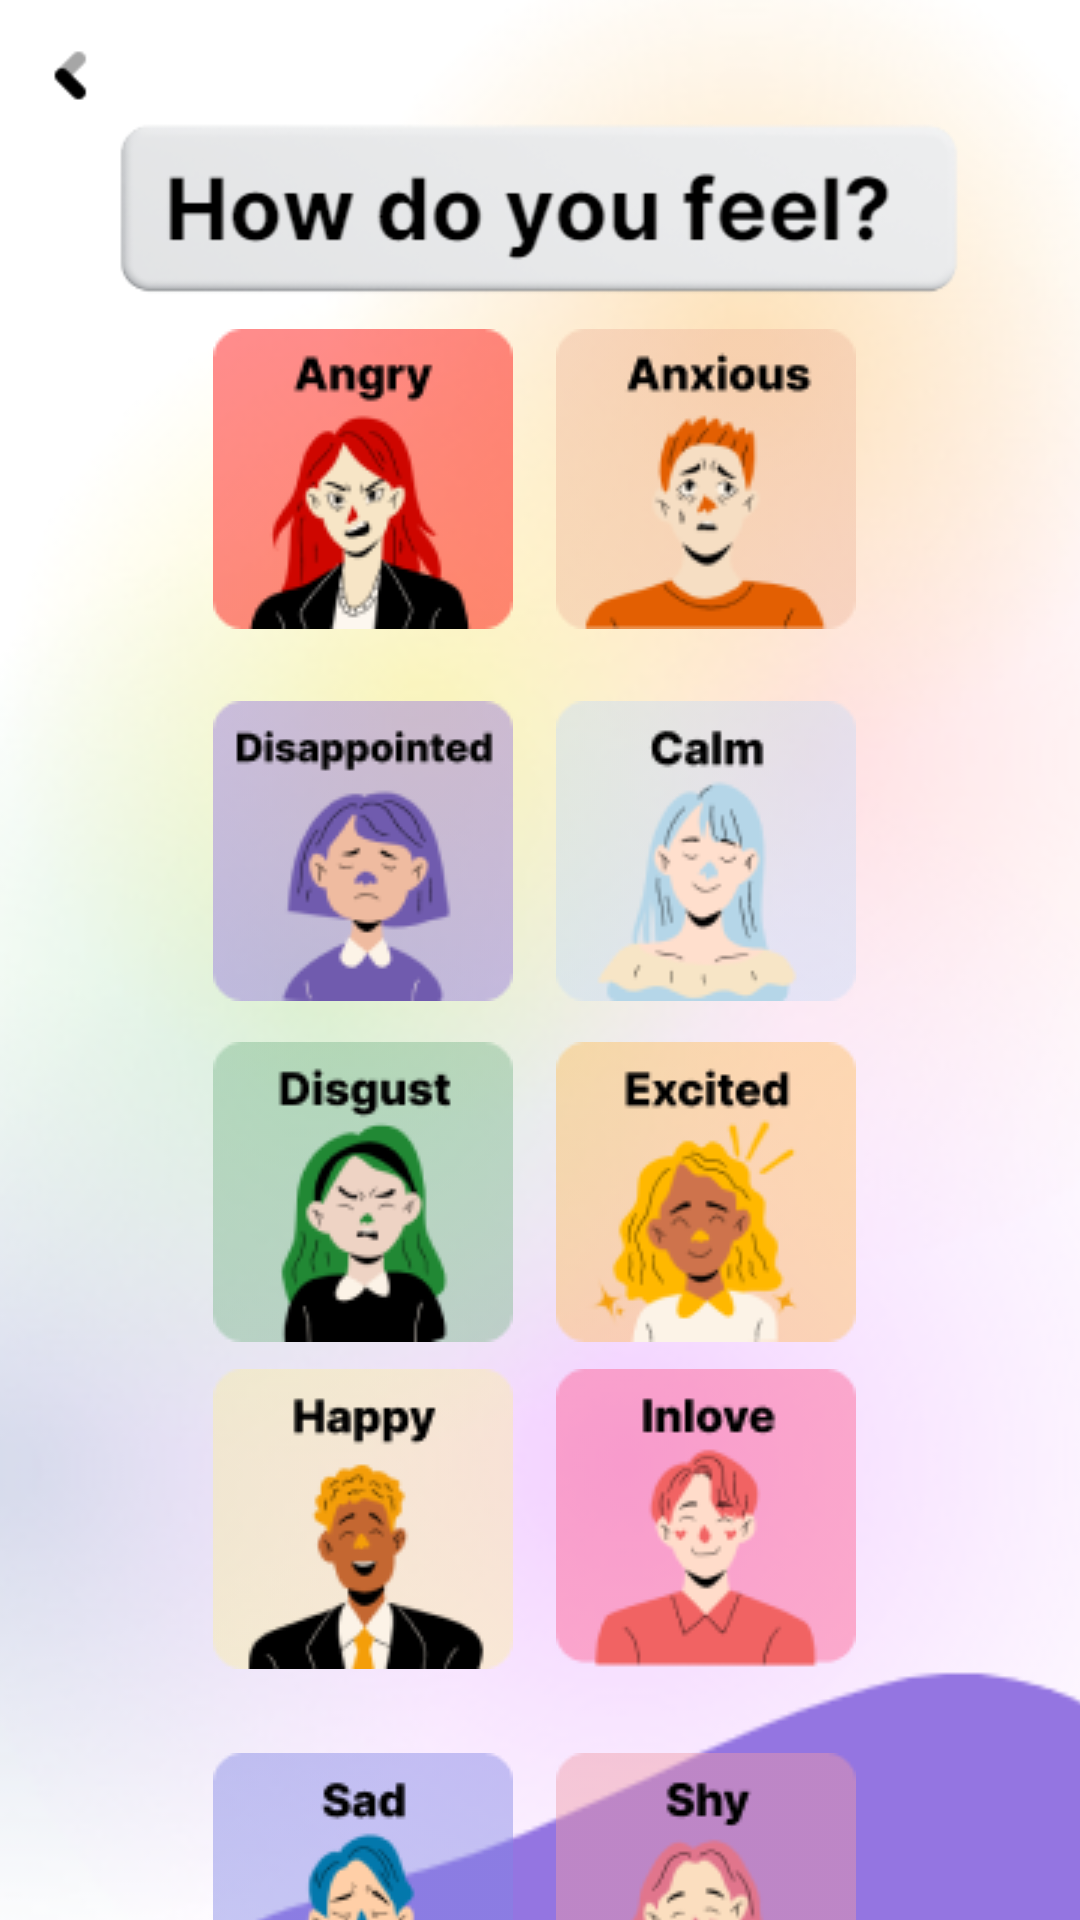

Icons on this 1080px x 1920px Android screen, each with its box as (x1, y1, x2, y2):
back: (54, 51, 87, 100)
